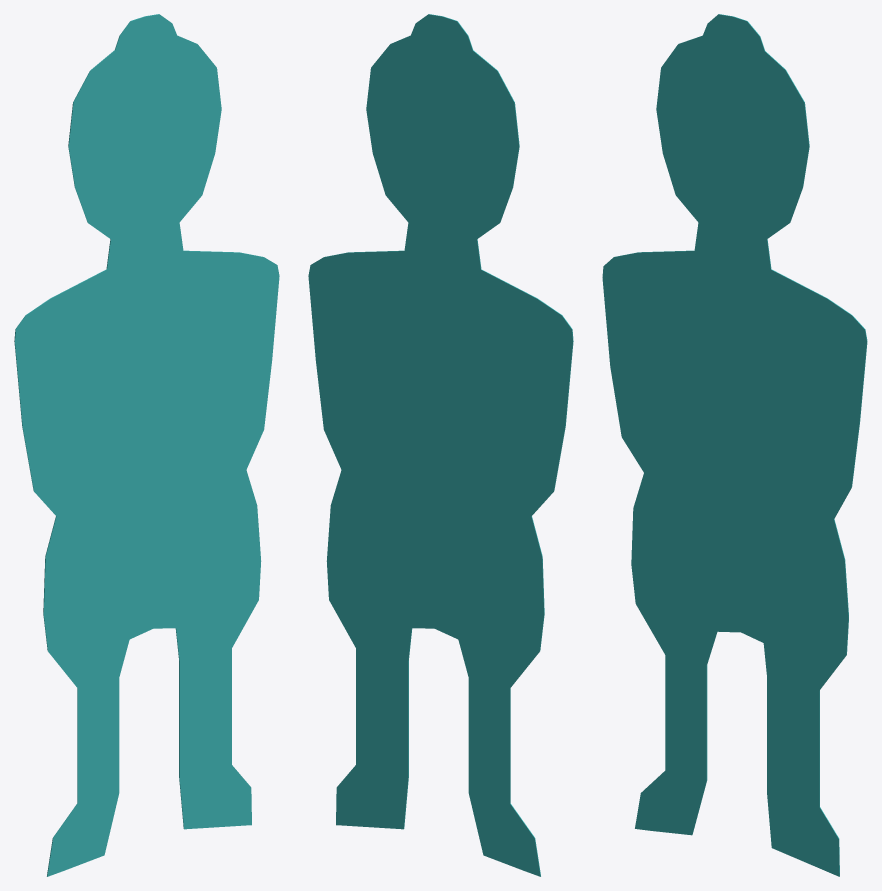
The model's file is girl_sitting.fbx.
The picture shows the model from 3 angles, left to right: view 1: azimuth 30°, elevation 25°; view 2: azimuth 150°, elevation 25°; view 3: azimuth 330°, elevation 25°; orthographic projection.
Visible parts, largest first — view 1: girl_sitting; view 2: girl_sitting; view 3: girl_sitting.
Part boxes in pixels (<box>): girl_sitting: <box>14,14,279,876</box>; girl_sitting: <box>308,14,573,876</box>; girl_sitting: <box>602,14,867,876</box>.
Bounding box in the file's own units: 11.18 × 33.76 × 0.0339.
